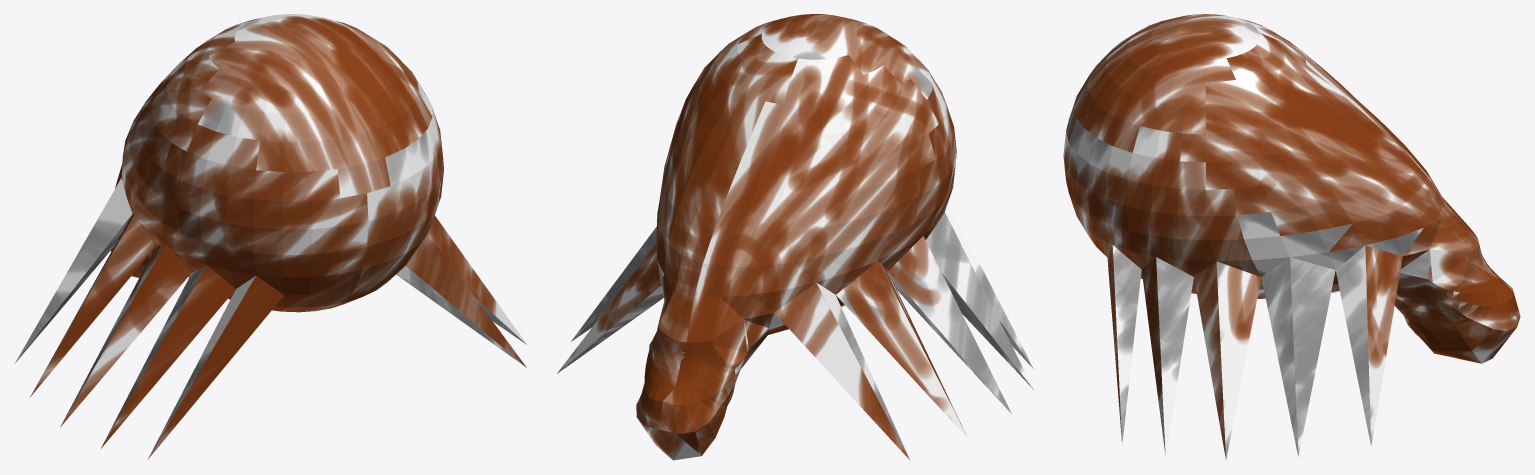
File: buzz.dae
The picture shows the model from 3 angles, left to right: view 1: azimuth 30°, elevation 25°; view 2: azimuth 150°, elevation 25°; view 3: azimuth 270°, elevation 25°; orthographic projection. The views are drawn at different scales.
Visible parts, largest first — view 1: Buzz; view 2: Buzz; view 3: Buzz.
Part boxes in pixels (<box>): Buzz: <box>14,14,526,459</box>; Buzz: <box>557,14,1034,460</box>; Buzz: <box>1063,14,1520,460</box>.
Size of the model in its own units: 0.3906 by 0.3712 by 0.298.
Materials: 1 (1 with a texture image).
